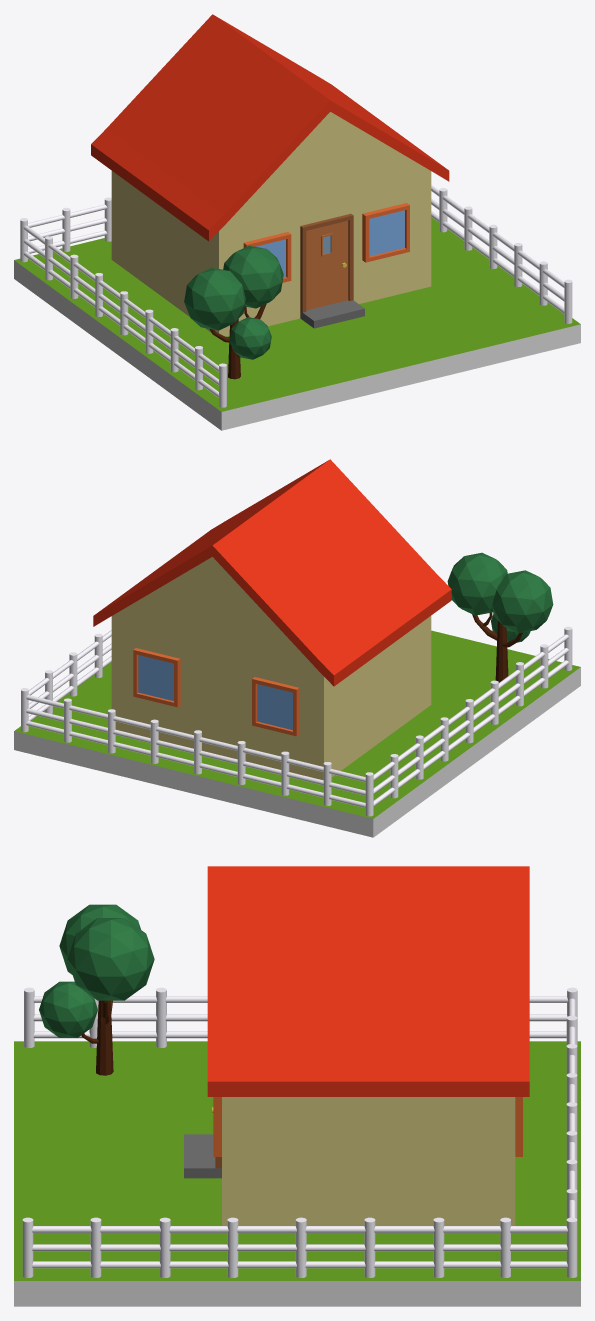
The model's file is House Lvl 1.gltf.
3 views of the same model, one above another, from view 1: azimuth 30°, elevation 25°; view 2: azimuth 150°, elevation 25°; view 3: azimuth 270°, elevation 25° (orthographic). The views are drawn at different scales.
Visible parts, largest first — view 1: KUCA, Baza 1x1, ograda, DRVO 1.002, ulazna vrata kuce.003, prozor.005; view 2: KUCA, Baza 1x1, ograda, DRVO 1.002, prozor.005; view 3: KUCA, Baza 1x1, ograda, DRVO 1.002, ulazna vrata kuce.003, prozor.005.
Boxes of the visible parts, x1,y1,x2,y2 form: KUCA: (91,14,449,336); Baza 1x1: (14,217,580,430); ograda: (20,185,572,407); DRVO 1.002: (184,245,283,379); ulazna vrata kuce.003: (300,213,364,328); prozor.005: (243,203,409,282); KUCA: (93,459,451,780); Baza 1x1: (14,630,580,837); ograda: (21,626,572,816); DRVO 1.002: (447,552,553,682); prozor.005: (133,648,299,736); KUCA: (207,866,529,1225); Baza 1x1: (14,1041,580,1306); ograda: (22,987,577,1277); DRVO 1.002: (39,904,154,1075); ulazna vrata kuce.003: (184,1107,221,1178); prozor.005: (213,1097,522,1156).
Bounding box in the file's own units: 2 × 1.25 × 2.
